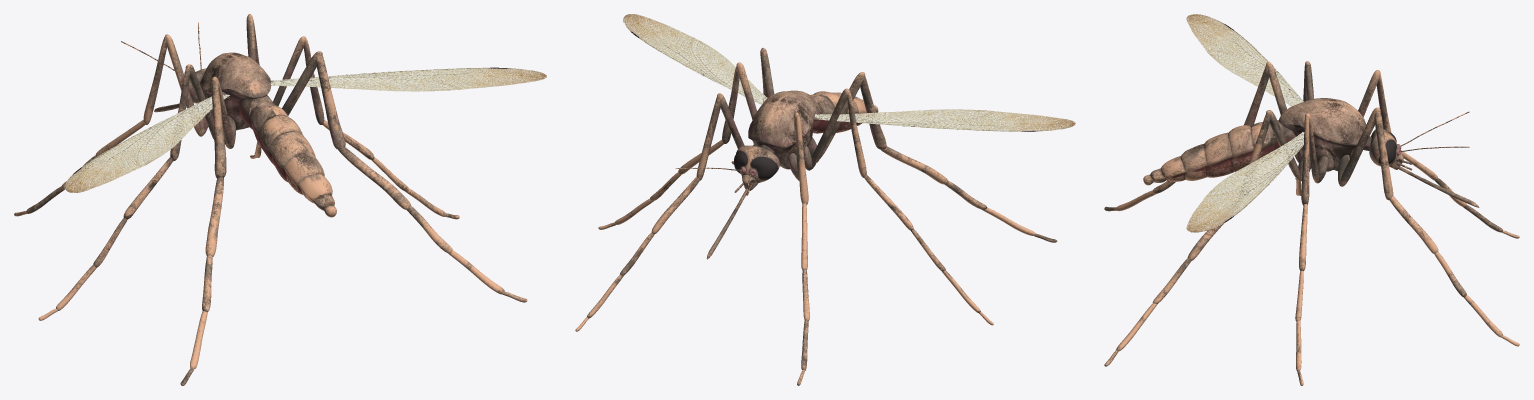
The model's file is Mosquito.glb.
The picture shows the model from 3 angles, left to right: view 1: azimuth 30°, elevation 25°; view 2: azimuth 150°, elevation 25°; view 3: azimuth 270°, elevation 25°; orthographic projection. The views are drawn at different scales.
Visible parts, largest first — view 1: Default__0, Plane; view 2: Default__0, Plane; view 3: Default__0, Plane.
Part boxes in pixels (x1=…): Default__0: x1=14, y1=14, x2=527, y2=385; Plane: x1=64, y1=67, x2=546, y2=192; Default__0: x1=575, y1=48, x2=1057, y2=385; Plane: x1=623, y1=14, x2=1075, y2=131; Default__0: x1=1104, y1=61, x2=1519, y2=385; Plane: x1=1186, y1=14, x2=1304, y2=232.
Size of the model in its own units: 0.221 by 0.0971 by 0.1772.
2 materials, 2 textured.
